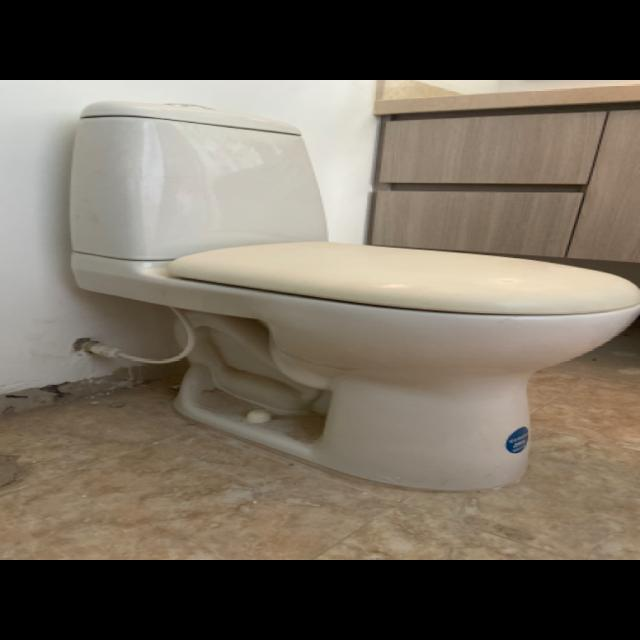toilet: (68, 100, 638, 492)
